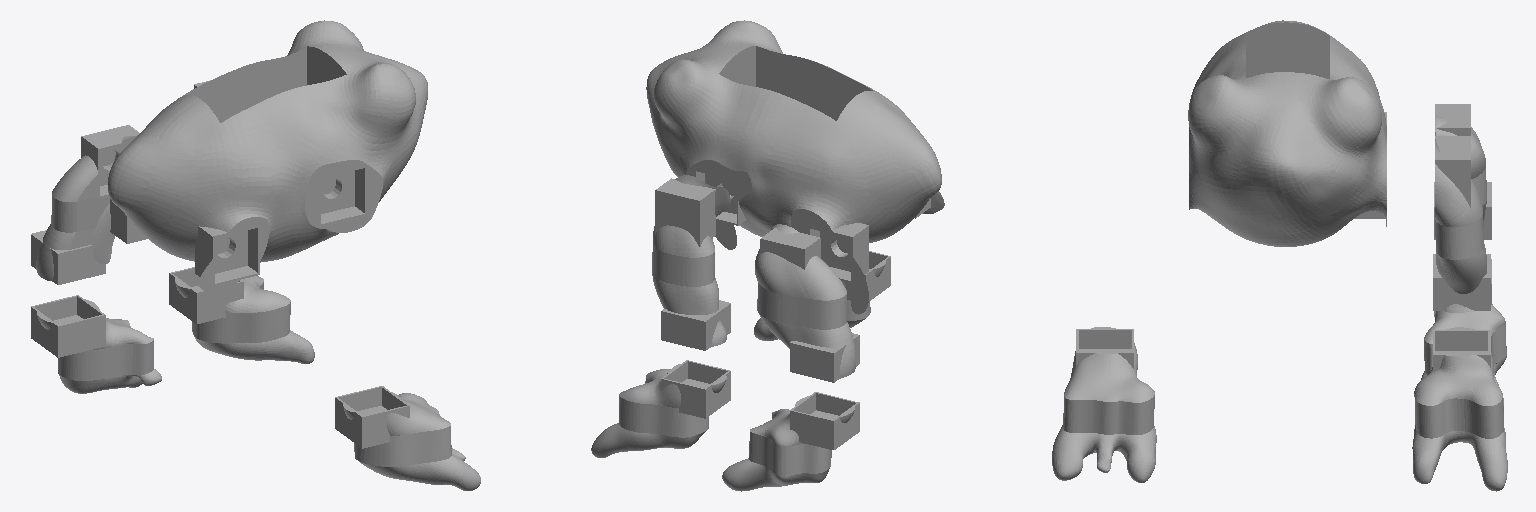
URDF robot description (FrogBot4_top-FrogBot4-x-6_bottom-FrogBot4-x-6):
<?xml version="1.0" ?>
<robot name="FrogBot4_top-FrogBot4-x-6_bottom-FrogBot4-x-6">

<material name="pla_5_percent_infill">
  <color rgba="0.700 0.700 0.700 1.000"/>
</material>

<link name="base_link">
  <inertial>
    <origin xyz="0 0 0" rpy="0 0 0"/>
    <mass value="1.4608203761339813"/>
    <inertia ixx="0.00496034401110324" iyy="0.010259632804669863" izz="0.010457868746855814" ixy="4.519338143051983e-05" iyz="5.808312742508133e-05" ixz="-0.001193761897574285"/>
  </inertial>
  <visual>
    <origin xyz="0 0 0" rpy="0 0 0"/>
    <geometry>
      <mesh filename="simple_meshes/base_link.stl" scale="0.001 0.001 0.001"/>
    </geometry>
    <material name="pla_5_percent_infill"/>
  </visual>
  <collision>
    <origin xyz="0 0 0" rpy="0 0 0"/>
    <geometry>
      <mesh filename="simple_meshes/base_link.stl" scale="0.001 0.001 0.001"/>
    </geometry>
  </collision>
</link>

<link name="body_1_0_1">
  <inertial>
    <origin xyz="-0.039935 -0.102508 -0.020563" rpy="0 0 0"/>
    <mass value="0.08391337745337313"/>
    <inertia ixx="0.000107708054929511" iyy="0.00012337021791642203" izz="3.687093798814488e-05" ixy="9.901716534195895e-07" iyz="2.7818110024143534e-06" ixz="-1.518831388443177e-05"/>
  </inertial>
  <visual>
    <origin xyz="-0.039935 -0.102508 -0.020563" rpy="0 0 0"/>
    <geometry>
      <mesh filename="simple_meshes/body_1_0_1.stl" scale="0.001 0.001 0.001"/>
    </geometry>
    <material name="pla_5_percent_infill"/>
  </visual>
  <collision>
    <origin xyz="-0.039935 -0.102508 -0.020563" rpy="0 0 0"/>
    <geometry>
      <mesh filename="simple_meshes/body_1_0_1.stl" scale="0.001 0.001 0.001"/>
    </geometry>
  </collision>
</link>

<link name="body_1_1_1">
  <inertial>
    <origin xyz="0.084829 -0.102508 0.010182" rpy="0 0 0"/>
    <mass value="0.09690447784595647"/>
    <inertia ixx="8.486720446513165e-05" iyy="0.00013339551480656545" izz="7.315573048027662e-05" ixy="-1.956951799241208e-06" iyz="1.53670200892539e-06" ixz="-2.678860930222318e-05"/>
  </inertial>
  <visual>
    <origin xyz="0.084829 -0.102508 0.010182" rpy="0 0 0"/>
    <geometry>
      <mesh filename="simple_meshes/body_1_1_1.stl" scale="0.001 0.001 0.001"/>
    </geometry>
    <material name="pla_5_percent_infill"/>
  </visual>
  <collision>
    <origin xyz="0.084829 -0.102508 0.010182" rpy="0 0 0"/>
    <geometry>
      <mesh filename="simple_meshes/body_1_1_1.stl" scale="0.001 0.001 0.001"/>
    </geometry>
  </collision>
</link>

<link name="body_1_2_1">
  <inertial>
    <origin xyz="-0.032973 0.102508 -0.03352" rpy="0 0 0"/>
    <mass value="0.09009116526525986"/>
    <inertia ixx="0.0001330463903118687" iyy="0.0001473501853028843" izz="4.0161479036824894e-05" ixy="-2.6035263311660443e-06" iyz="-1.2623762672274528e-05" ixz="-1.2883933912707773e-05"/>
  </inertial>
  <visual>
    <origin xyz="-0.032973 0.102508 -0.03352" rpy="0 0 0"/>
    <geometry>
      <mesh filename="simple_meshes/body_1_2_1.stl" scale="0.001 0.001 0.001"/>
    </geometry>
    <material name="pla_5_percent_infill"/>
  </visual>
  <collision>
    <origin xyz="-0.032973 0.102508 -0.03352" rpy="0 0 0"/>
    <geometry>
      <mesh filename="simple_meshes/body_1_2_1.stl" scale="0.001 0.001 0.001"/>
    </geometry>
  </collision>
</link>

<link name="body_1_3_1">
  <inertial>
    <origin xyz="0.075405 0.102508 -0.000907" rpy="0 0 0"/>
    <mass value="0.102974359676674"/>
    <inertia ixx="9.340508879547398e-05" iyy="0.00014297776703344183" izz="7.645777616253121e-05" ixy="1.735778857889312e-07" iyz="-1.5849478522092682e-06" ixz="-2.6593101054936874e-05"/>
  </inertial>
  <visual>
    <origin xyz="0.075405 0.102508 -0.000907" rpy="0 0 0"/>
    <geometry>
      <mesh filename="simple_meshes/body_1_3_1.stl" scale="0.001 0.001 0.001"/>
    </geometry>
    <material name="pla_5_percent_infill"/>
  </visual>
  <collision>
    <origin xyz="0.075405 0.102508 -0.000907" rpy="0 0 0"/>
    <geometry>
      <mesh filename="simple_meshes/body_1_3_1.stl" scale="0.001 0.001 0.001"/>
    </geometry>
  </collision>
</link>

<link name="body_2_0_1">
  <inertial>
    <origin xyz="-0.025656 -0.145015 0.115436" rpy="0 0 0"/>
    <mass value="0.10814465605857151"/>
    <inertia ixx="8.477950811622541e-05" iyy="0.00010633492797700646" izz="0.00010853723608463895" ixy="-3.9307082537454446e-07" iyz="9.18729375031218e-07" ixz="2.3261636753739044e-05"/>
  </inertial>
  <visual>
    <origin xyz="-0.025656 -0.145015 0.115436" rpy="0 0 0"/>
    <geometry>
      <mesh filename="simple_meshes/body_2_0_1.stl" scale="0.001 0.001 0.001"/>
    </geometry>
    <material name="pla_5_percent_infill"/>
  </visual>
  <collision>
    <origin xyz="-0.025656 -0.145015 0.115436" rpy="0 0 0"/>
    <geometry>
      <mesh filename="simple_meshes/body_2_0_1.stl" scale="0.001 0.001 0.001"/>
    </geometry>
  </collision>
</link>

<link name="body_2_1_1">
  <inertial>
    <origin xyz="0.114857 -0.145661 0.115438" rpy="0 0 0"/>
    <mass value="0.09254938080743046"/>
    <inertia ixx="6.222607374183758e-05" iyy="9.586049762318498e-05" izz="7.748111811619338e-05" ixy="-3.4202023248960586e-06" iyz="5.487652990234133e-06" ixz="2.397725964488036e-05"/>
  </inertial>
  <visual>
    <origin xyz="0.114857 -0.145661 0.115438" rpy="0 0 0"/>
    <geometry>
      <mesh filename="simple_meshes/body_2_1_1.stl" scale="0.001 0.001 0.001"/>
    </geometry>
    <material name="pla_5_percent_infill"/>
  </visual>
  <collision>
    <origin xyz="0.114857 -0.145661 0.115438" rpy="0 0 0"/>
    <geometry>
      <mesh filename="simple_meshes/body_2_1_1.stl" scale="0.001 0.001 0.001"/>
    </geometry>
  </collision>
</link>

<link name="body_2_2_1">
  <inertial>
    <origin xyz="-0.022601 0.152053 0.115436" rpy="0 0 0"/>
    <mass value="0.11724314250921297"/>
    <inertia ixx="9.12895357742952e-05" iyy="0.00011702781650043195" izz="0.00011675662240041721" ixy="-3.2430370847779527e-06" iyz="-7.234377882685272e-07" ixz="2.5753588689109933e-05"/>
  </inertial>
  <visual>
    <origin xyz="-0.022601 0.152053 0.115436" rpy="0 0 0"/>
    <geometry>
      <mesh filename="simple_meshes/body_2_2_1.stl" scale="0.001 0.001 0.001"/>
    </geometry>
    <material name="pla_5_percent_infill"/>
  </visual>
  <collision>
    <origin xyz="-0.022601 0.152053 0.115436" rpy="0 0 0"/>
    <geometry>
      <mesh filename="simple_meshes/body_2_2_1.stl" scale="0.001 0.001 0.001"/>
    </geometry>
  </collision>
</link>

<link name="body_2_3_1">
  <inertial>
    <origin xyz="0.12145 0.146005 0.115436" rpy="0 0 0"/>
    <mass value="0.09660274356269134"/>
    <inertia ixx="7.787953273769715e-05" iyy="8.565177688397378e-05" izz="9.151220984437991e-05" ixy="6.182347057017866e-06" iyz="-9.724222368828663e-06" ixz="1.6623366316983806e-05"/>
  </inertial>
  <visual>
    <origin xyz="0.12145 0.146005 0.115436" rpy="0 0 0"/>
    <geometry>
      <mesh filename="simple_meshes/body_2_3_1.stl" scale="0.001 0.001 0.001"/>
    </geometry>
    <material name="pla_5_percent_infill"/>
  </visual>
  <collision>
    <origin xyz="0.12145 0.146005 0.115436" rpy="0 0 0"/>
    <geometry>
      <mesh filename="simple_meshes/body_2_3_1.stl" scale="0.001 0.001 0.001"/>
    </geometry>
  </collision>
</link>

<joint name="joint_1_0" type="revolute">
  <origin xyz="0.039935 0.102508 0.020563" rpy="0 0 0"/>
  <parent link="base_link"/>
  <child link="body_1_0_1"/>
  <axis xyz="1.0 0.0 0.0"/>
  <limit upper="1.2" lower="-1.2" effort="3.8" velocity="5.4"/>
</joint>
<transmission name="joint_1_0_tran">
  <type>transmission_interface/SimpleTransmission</type>
  <joint name="joint_1_0">
    <hardwareInterface>PositionJointInterface</hardwareInterface>
  </joint>
  <actuator name="joint_1_0_actr">
    <hardwareInterface>PositionJointInterface</hardwareInterface>
    <mechanicalReduction>1</mechanicalReduction>
  </actuator>
</transmission>

<joint name="joint_1_1" type="revolute">
  <origin xyz="-0.084829 0.102508 -0.010182" rpy="0 0 0"/>
  <parent link="base_link"/>
  <child link="body_1_1_1"/>
  <axis xyz="1.0 0.0 0.0"/>
  <limit upper="1.2" lower="-1.2" effort="3.8" velocity="5.4"/>
</joint>
<transmission name="joint_1_1_tran">
  <type>transmission_interface/SimpleTransmission</type>
  <joint name="joint_1_1">
    <hardwareInterface>PositionJointInterface</hardwareInterface>
  </joint>
  <actuator name="joint_1_1_actr">
    <hardwareInterface>PositionJointInterface</hardwareInterface>
    <mechanicalReduction>1</mechanicalReduction>
  </actuator>
</transmission>

<joint name="joint_1_2" type="revolute">
  <origin xyz="0.032973 -0.102508 0.03352" rpy="0 0 0"/>
  <parent link="base_link"/>
  <child link="body_1_2_1"/>
  <axis xyz="1.0 0.0 0.0"/>
  <limit upper="1.2" lower="-1.2" effort="3.8" velocity="5.4"/>
</joint>
<transmission name="joint_1_2_tran">
  <type>transmission_interface/SimpleTransmission</type>
  <joint name="joint_1_2">
    <hardwareInterface>PositionJointInterface</hardwareInterface>
  </joint>
  <actuator name="joint_1_2_actr">
    <hardwareInterface>PositionJointInterface</hardwareInterface>
    <mechanicalReduction>1</mechanicalReduction>
  </actuator>
</transmission>

<joint name="joint_1_3" type="revolute">
  <origin xyz="-0.075405 -0.102508 0.000907" rpy="0 0 0"/>
  <parent link="base_link"/>
  <child link="body_1_3_1"/>
  <axis xyz="1.0 0.0 0.0"/>
  <limit upper="1.2" lower="-1.2" effort="3.8" velocity="5.4"/>
</joint>
<transmission name="joint_1_3_tran">
  <type>transmission_interface/SimpleTransmission</type>
  <joint name="joint_1_3">
    <hardwareInterface>PositionJointInterface</hardwareInterface>
  </joint>
  <actuator name="joint_1_3_actr">
    <hardwareInterface>PositionJointInterface</hardwareInterface>
    <mechanicalReduction>1</mechanicalReduction>
  </actuator>
</transmission>

<joint name="joint_2_0" type="revolute">
  <origin xyz="-0.014279 0.042507 -0.135999" rpy="0 0 0"/>
  <parent link="body_1_0_1"/>
  <child link="body_2_0_1"/>
  <axis xyz="1.0 0.0 0.0"/>
  <limit upper="1.2" lower="-1.2" effort="3.8" velocity="5.4"/>
</joint>
<transmission name="joint_2_0_tran">
  <type>transmission_interface/SimpleTransmission</type>
  <joint name="joint_2_0">
    <hardwareInterface>PositionJointInterface</hardwareInterface>
  </joint>
  <actuator name="joint_2_0_actr">
    <hardwareInterface>PositionJointInterface</hardwareInterface>
    <mechanicalReduction>1</mechanicalReduction>
  </actuator>
</transmission>

<joint name="joint_2_1" type="revolute">
  <origin xyz="-0.030028 0.043153 -0.105256" rpy="0 0 0"/>
  <parent link="body_1_1_1"/>
  <child link="body_2_1_1"/>
  <axis xyz="1.0 0.0 0.0"/>
  <limit upper="1.2" lower="-1.2" effort="3.8" velocity="5.4"/>
</joint>
<transmission name="joint_2_1_tran">
  <type>transmission_interface/SimpleTransmission</type>
  <joint name="joint_2_1">
    <hardwareInterface>PositionJointInterface</hardwareInterface>
  </joint>
  <actuator name="joint_2_1_actr">
    <hardwareInterface>PositionJointInterface</hardwareInterface>
    <mechanicalReduction>1</mechanicalReduction>
  </actuator>
</transmission>

<joint name="joint_2_2" type="revolute">
  <origin xyz="-0.010372 -0.049545 -0.148956" rpy="0 0 0"/>
  <parent link="body_1_2_1"/>
  <child link="body_2_2_1"/>
  <axis xyz="1.0 0.0 0.0"/>
  <limit upper="1.2" lower="-1.2" effort="3.8" velocity="5.4"/>
</joint>
<transmission name="joint_2_2_tran">
  <type>transmission_interface/SimpleTransmission</type>
  <joint name="joint_2_2">
    <hardwareInterface>PositionJointInterface</hardwareInterface>
  </joint>
  <actuator name="joint_2_2_actr">
    <hardwareInterface>PositionJointInterface</hardwareInterface>
    <mechanicalReduction>1</mechanicalReduction>
  </actuator>
</transmission>

<joint name="joint_2_3" type="revolute">
  <origin xyz="-0.046045 -0.043497 -0.116343" rpy="0 0 0"/>
  <parent link="body_1_3_1"/>
  <child link="body_2_3_1"/>
  <axis xyz="1.0 0.0 0.0"/>
  <limit upper="1.2" lower="-1.2" effort="3.8" velocity="5.4"/>
</joint>
<transmission name="joint_2_3_tran">
  <type>transmission_interface/SimpleTransmission</type>
  <joint name="joint_2_3">
    <hardwareInterface>PositionJointInterface</hardwareInterface>
  </joint>
  <actuator name="joint_2_3_actr">
    <hardwareInterface>PositionJointInterface</hardwareInterface>
    <mechanicalReduction>1</mechanicalReduction>
  </actuator>
</transmission>

</robot>

--- Facts derived from the render (not from the file) ---
The picture shows the robot from 3 angles, left to right: view 1: azimuth 30°, elevation 25°; view 2: azimuth 150°, elevation 25°; view 3: azimuth 270°, elevation 25°; orthographic projection.
Robot: FrogBot4_top-FrogBot4-x-6_bottom-FrogBot4-x-6 — 9 links, 8 joints (8 revolute); root link base_link; default pose: all joints at 0.
Links seen in each view (by area): view 1: base_link, body_2_2_1, body_2_1_1, body_2_0_1, body_1_1_1; view 2: base_link, body_1_1_1, body_1_0_1, body_2_0_1, body_2_1_1, body_2_2_1; view 3: base_link, body_2_2_1, body_2_0_1, body_1_0_1, body_1_1_1, body_2_1_1.
Boxes of the visible links, x1=… form: base_link: x1=92, y1=20, x2=427, y2=294; body_2_2_1: x1=335, y1=386, x2=480, y2=490; body_2_1_1: x1=31, y1=295, x2=161, y2=393; body_2_0_1: x1=169, y1=267, x2=314, y2=363; body_1_1_1: x1=31, y1=125, x2=139, y2=284; base_link: x1=646, y1=20, x2=944, y2=314; body_1_1_1: x1=755, y1=224, x2=859, y2=382; body_1_0_1: x1=652, y1=175, x2=730, y2=350; body_2_0_1: x1=591, y1=360, x2=730, y2=457; body_2_1_1: x1=722, y1=392, x2=859, y2=491; body_2_2_1: x1=754, y1=251, x2=890, y2=340; base_link: x1=1188, y1=20, x2=1386, y2=246; body_2_2_1: x1=1052, y1=327, x2=1156, y2=482; body_2_0_1: x1=1412, y1=327, x2=1507, y2=491; body_1_0_1: x1=1433, y1=132, x2=1490, y2=312; body_1_1_1: x1=1434, y1=104, x2=1491, y2=239; body_2_1_1: x1=1421, y1=259, x2=1506, y2=406.
Bounding box of the posed robot: 0.3177 × 0.3799 × 0.3714 m (x, y, z).
Meshes: 9 distinct files referenced, 6 mesh visuals loaded (6 binary STL); not drawn: 3 (reference not matched to a file when rendering).